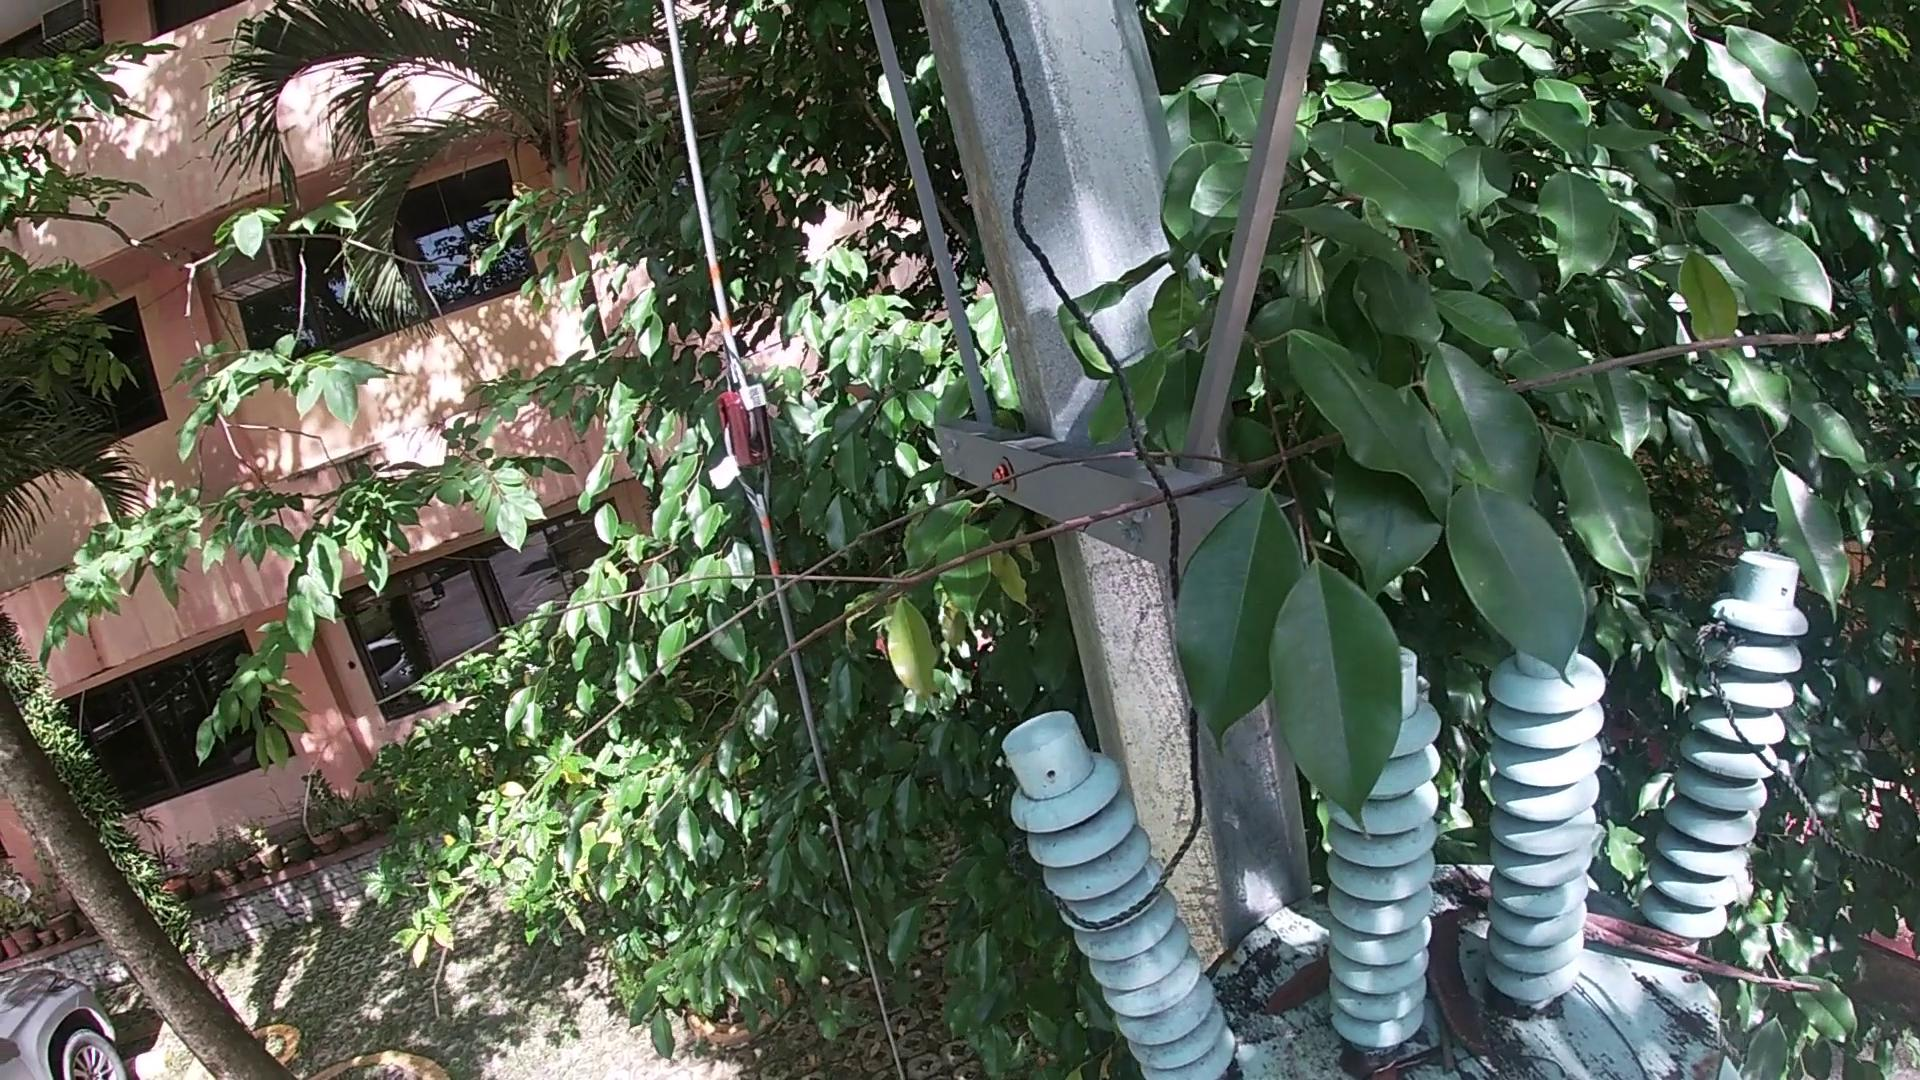leaf: (1255, 955, 1327, 1019), (1352, 1046, 1429, 1080)
tree branch: (266, 313, 1850, 936), (1586, 913, 1842, 997), (1585, 980, 1655, 1075), (1472, 1044, 1575, 1065), (1433, 1014, 1462, 1077), (1448, 858, 1490, 898)
